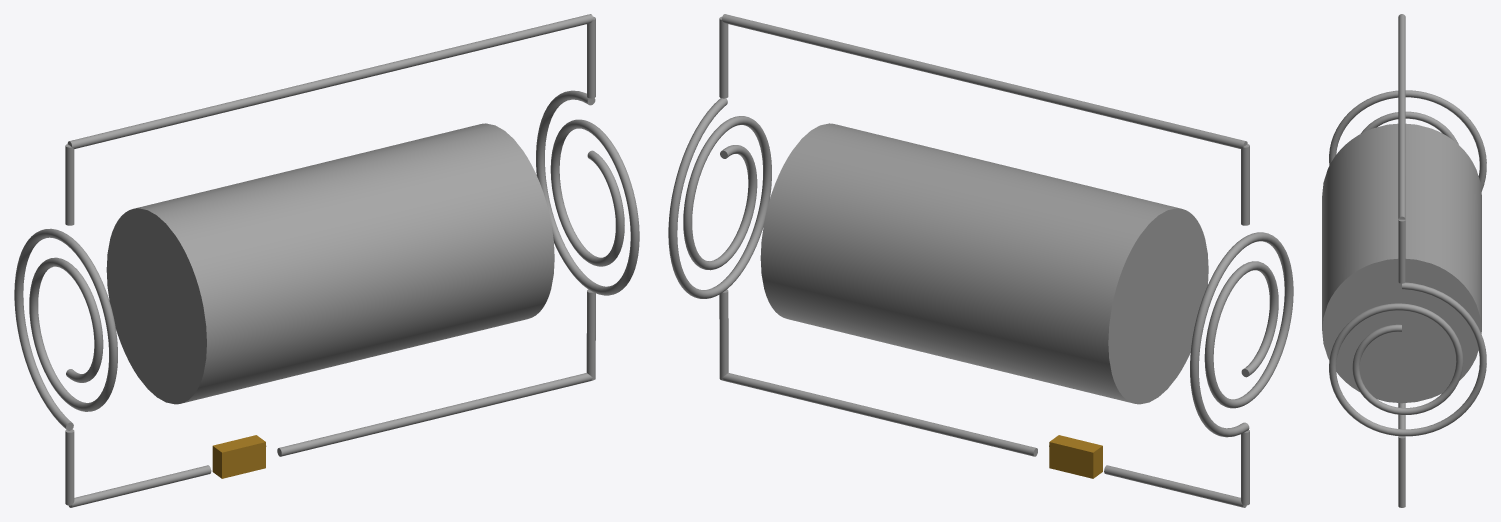
The model's file is asemblyvol1.fbx.
3 renders of one model, left to right at view 1: azimuth 30°, elevation 25°; view 2: azimuth 150°, elevation 25°; view 3: azimuth 270°, elevation 25°, orthographic. The views are drawn at different scales.
Visible parts, largest first — view 1: Body1, Body4, Body3, Body5, Body7, Body6, Battery body; view 2: Body1, Body3, Body4, Body5, Body7, Body6, Battery body; view 3: Body1, Body3, Body4, Body5, Body7.
Part boxes in pixels (x1,y1,x2,y2): Body1: [106, 123, 554, 404]; Body4: [14, 228, 117, 430]; Body3: [536, 90, 639, 295]; Body5: [65, 14, 595, 225]; Body7: [277, 289, 595, 456]; Body6: [65, 429, 211, 507]; Battery body: [212, 435, 265, 478]; Body1: [760, 123, 1208, 404]; Body3: [668, 98, 771, 298]; Body4: [1190, 232, 1293, 437]; Body5: [719, 14, 1249, 225]; Body7: [719, 289, 1037, 456]; Body6: [1104, 430, 1249, 507]; Battery body: [1049, 435, 1102, 478]; Body1: [1322, 123, 1481, 403]; Body3: [1329, 282, 1486, 436]; Body4: [1329, 90, 1486, 191]; Body5: [1398, 14, 1405, 283]; Body7: [1398, 403, 1405, 507].
Size of the model in its own units: 152 by 102 by 51.54.
